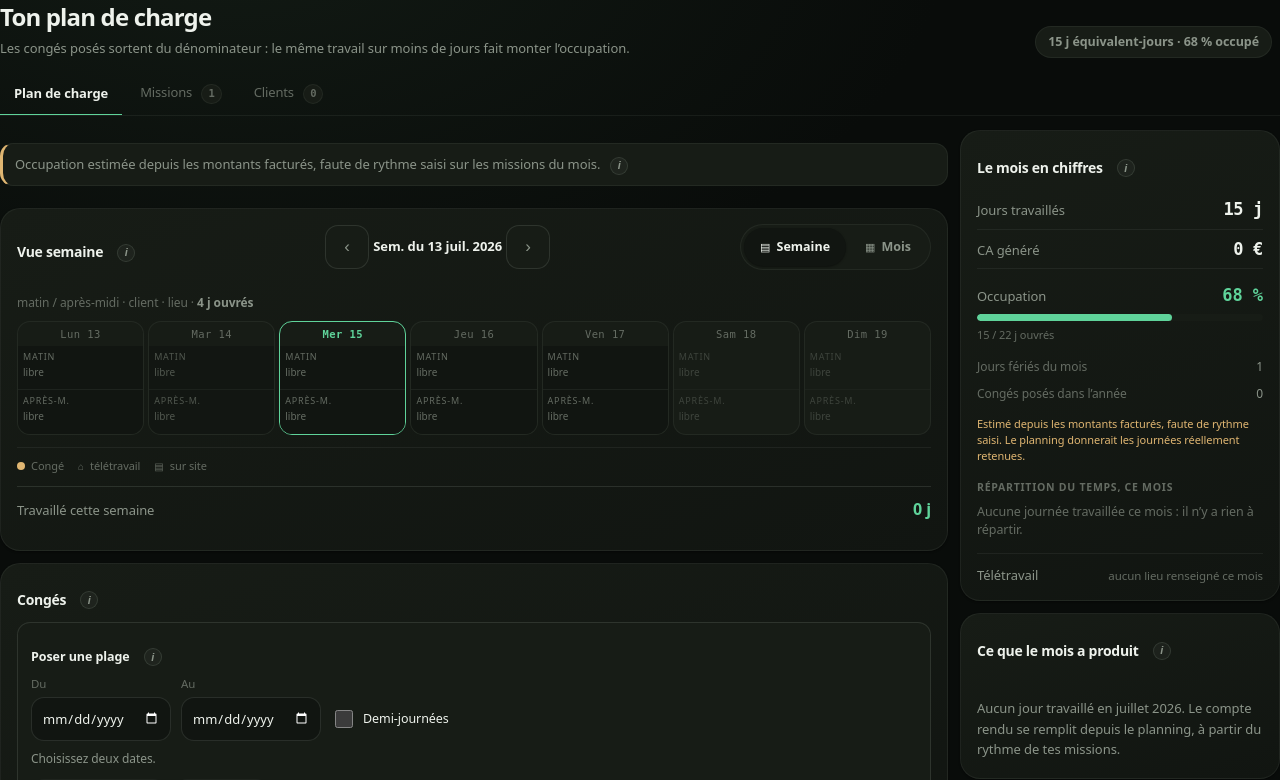
missions › montre ce que chaque mission a facturé et encaissé
Click the tab "Missions 1" at (181, 94), box [126,72,236,116]
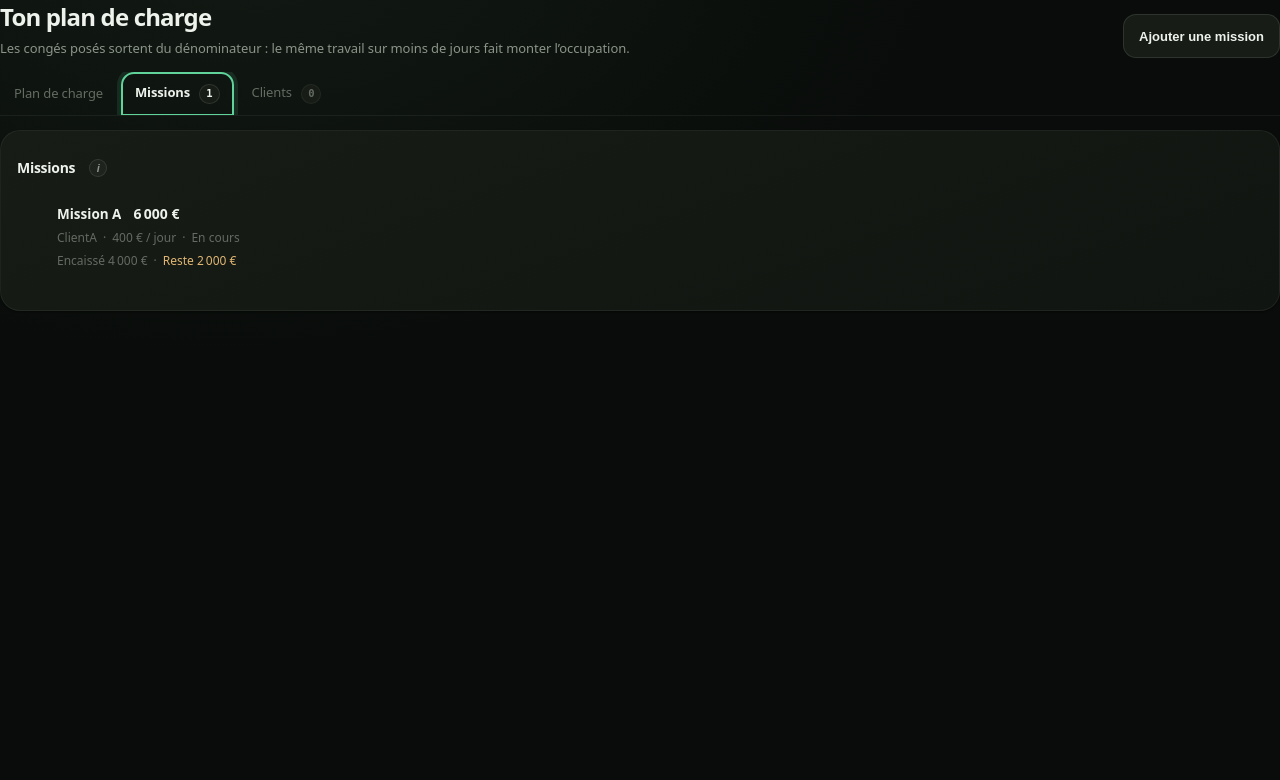
Now the heading "Missions" is shown, box [17,158,75,177]
Now the text "Mission A" is shown, box [57,205,121,224]
